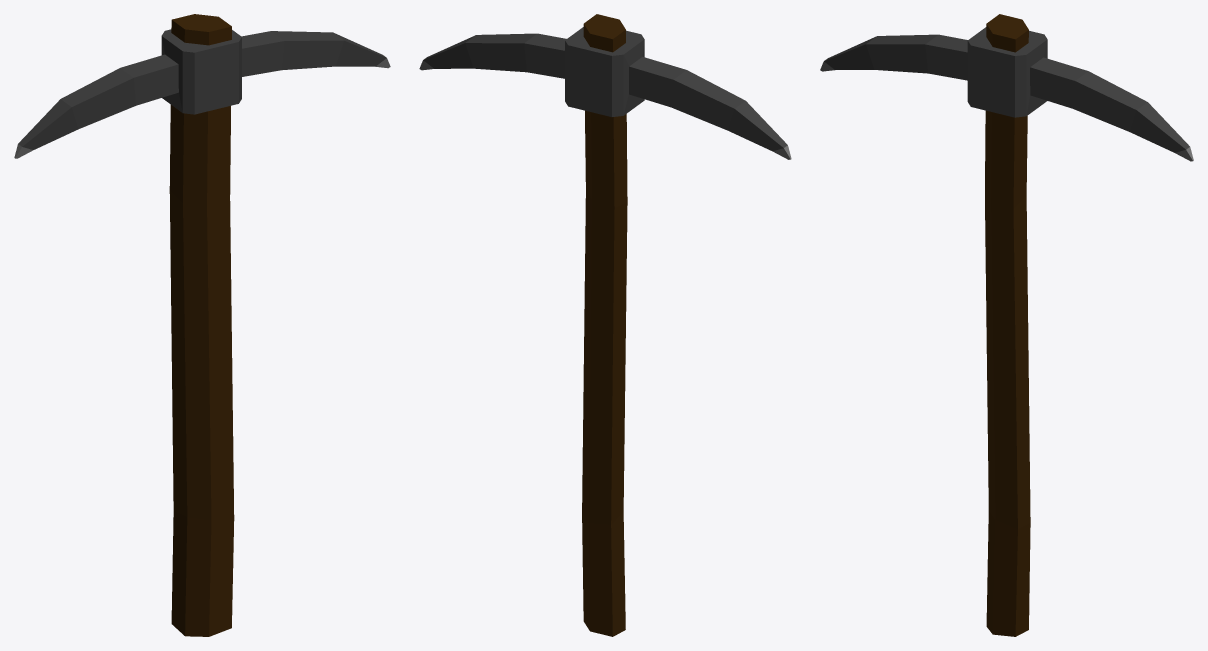
File: Pickaxe.fbx
3 renders of one model, left to right at view 1: azimuth 30°, elevation 25°; view 2: azimuth 150°, elevation 25°; view 3: azimuth 330°, elevation 25°, orthographic.
Visible parts, largest first — view 1: Pickaxe; view 2: Pickaxe; view 3: Pickaxe.
Boxes of the visible parts, left/top/right/bottom form: Pickaxe: left=14, top=14, right=390, bottom=636; Pickaxe: left=419, top=14, right=791, bottom=636; Pickaxe: left=820, top=14, right=1193, bottom=636.
Bounding box in the file's own units: 25.73 × 39.73 × 3.54.
